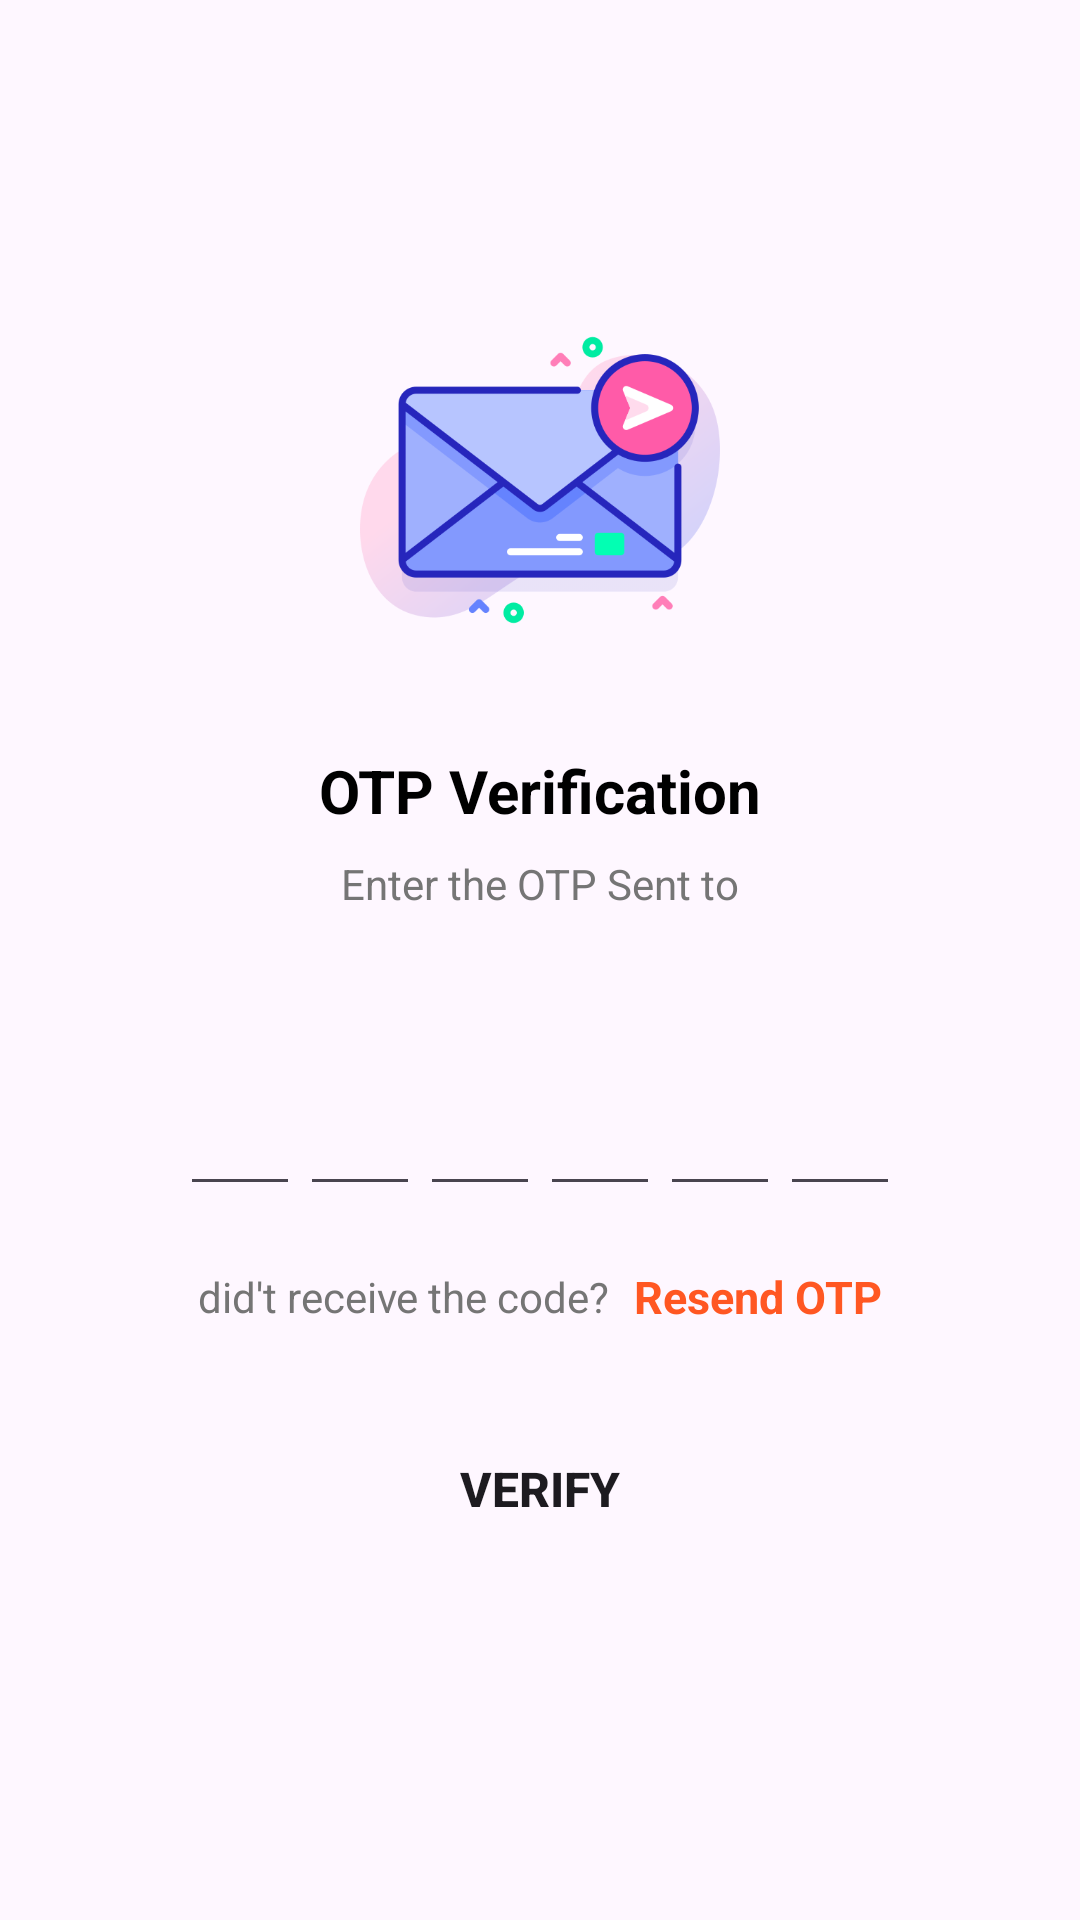

Icons on this 1080x1920 Android screen, each with its box as (x1, y1, x2, y2):
message: (360, 336, 720, 624)
